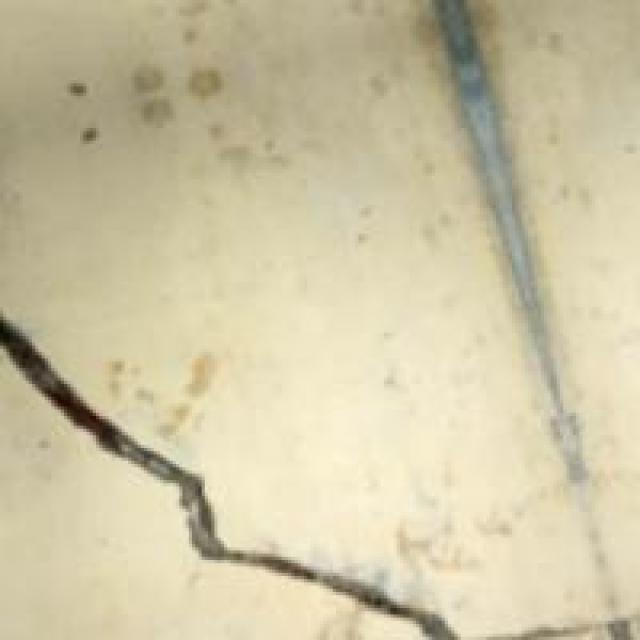crack: (3, 262, 506, 637)
